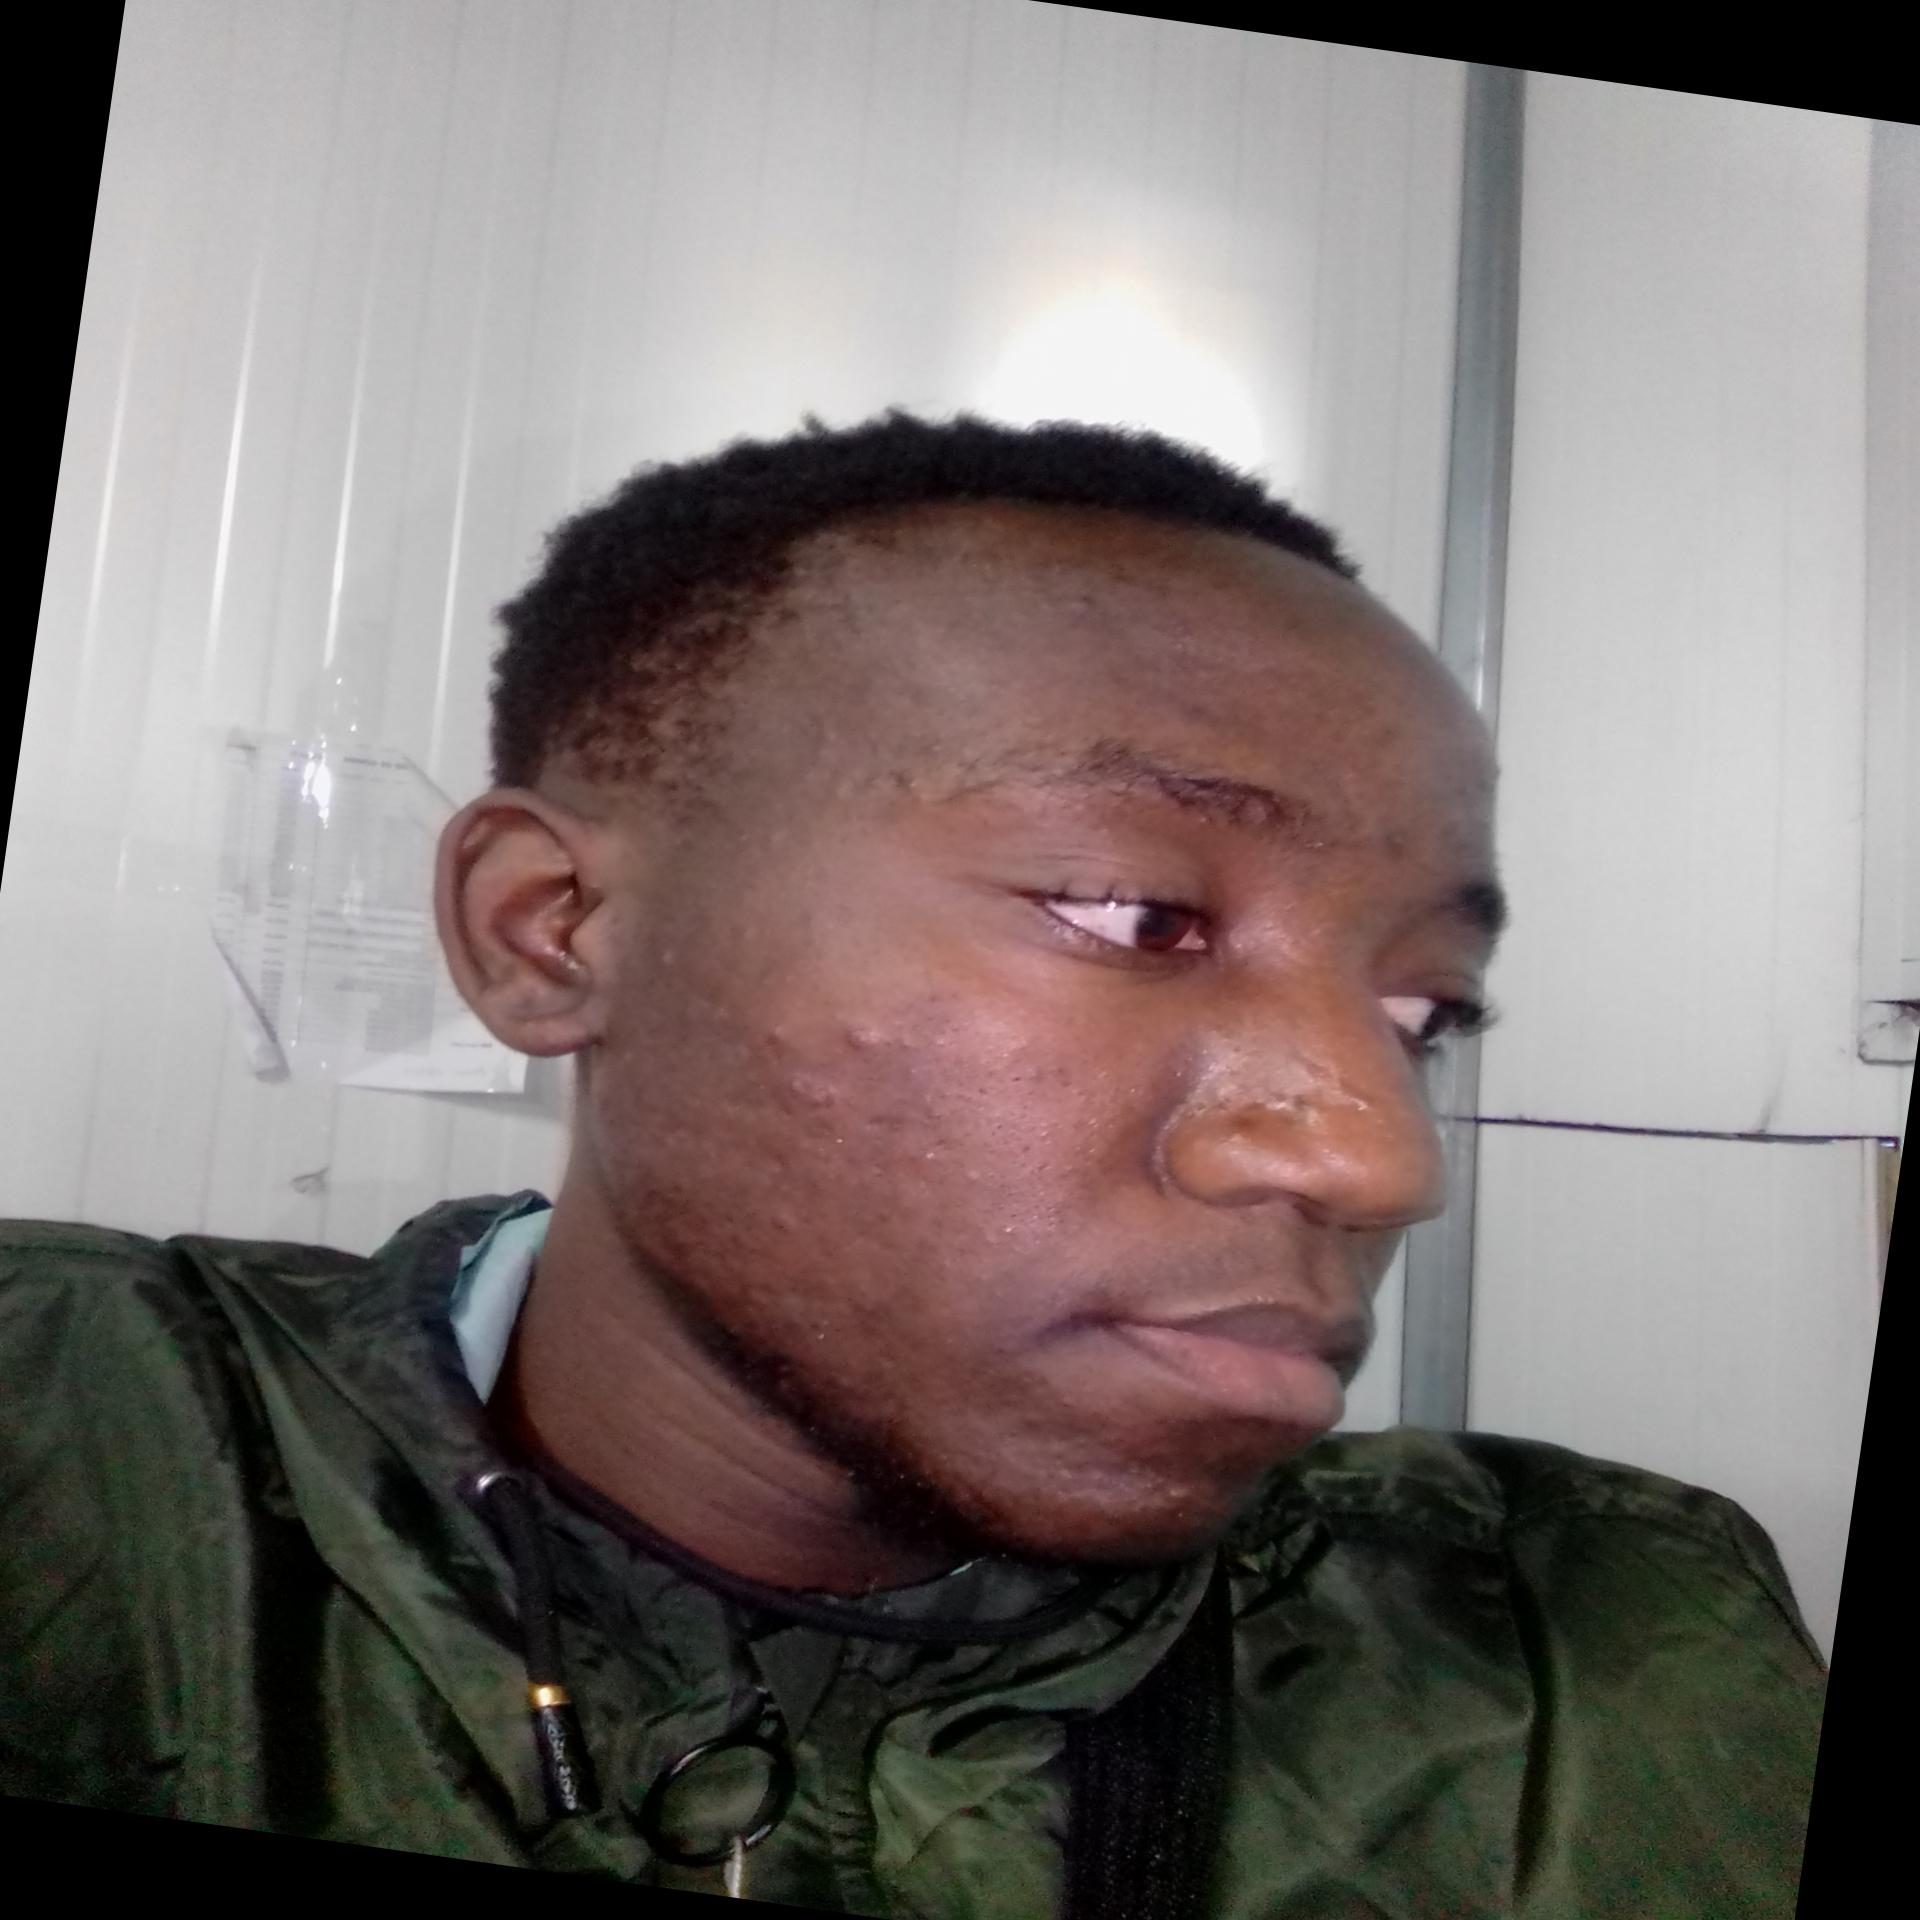Acne: (1039, 1456, 1224, 1524), (793, 719, 844, 796), (1320, 1074, 1393, 1127), (775, 1065, 840, 1111), (1053, 584, 1115, 629), (842, 1276, 891, 1327), (833, 1018, 891, 1058), (879, 763, 937, 804), (1176, 693, 1231, 731), (1046, 1384, 1095, 1421), (647, 939, 691, 979), (1261, 1088, 1312, 1122), (823, 1366, 874, 1400), (863, 1197, 911, 1233), (1377, 825, 1417, 865), (761, 1132, 800, 1175), (1366, 719, 1401, 760), (767, 1206, 800, 1245), (693, 1000, 733, 1030), (756, 1018, 795, 1048), (914, 1145, 949, 1175), (756, 819, 789, 849), (1276, 612, 1310, 640), (1013, 1407, 1046, 1435), (891, 1027, 921, 1055), (731, 920, 761, 941)
Englarged Pores: (937, 1055, 1108, 1254)
